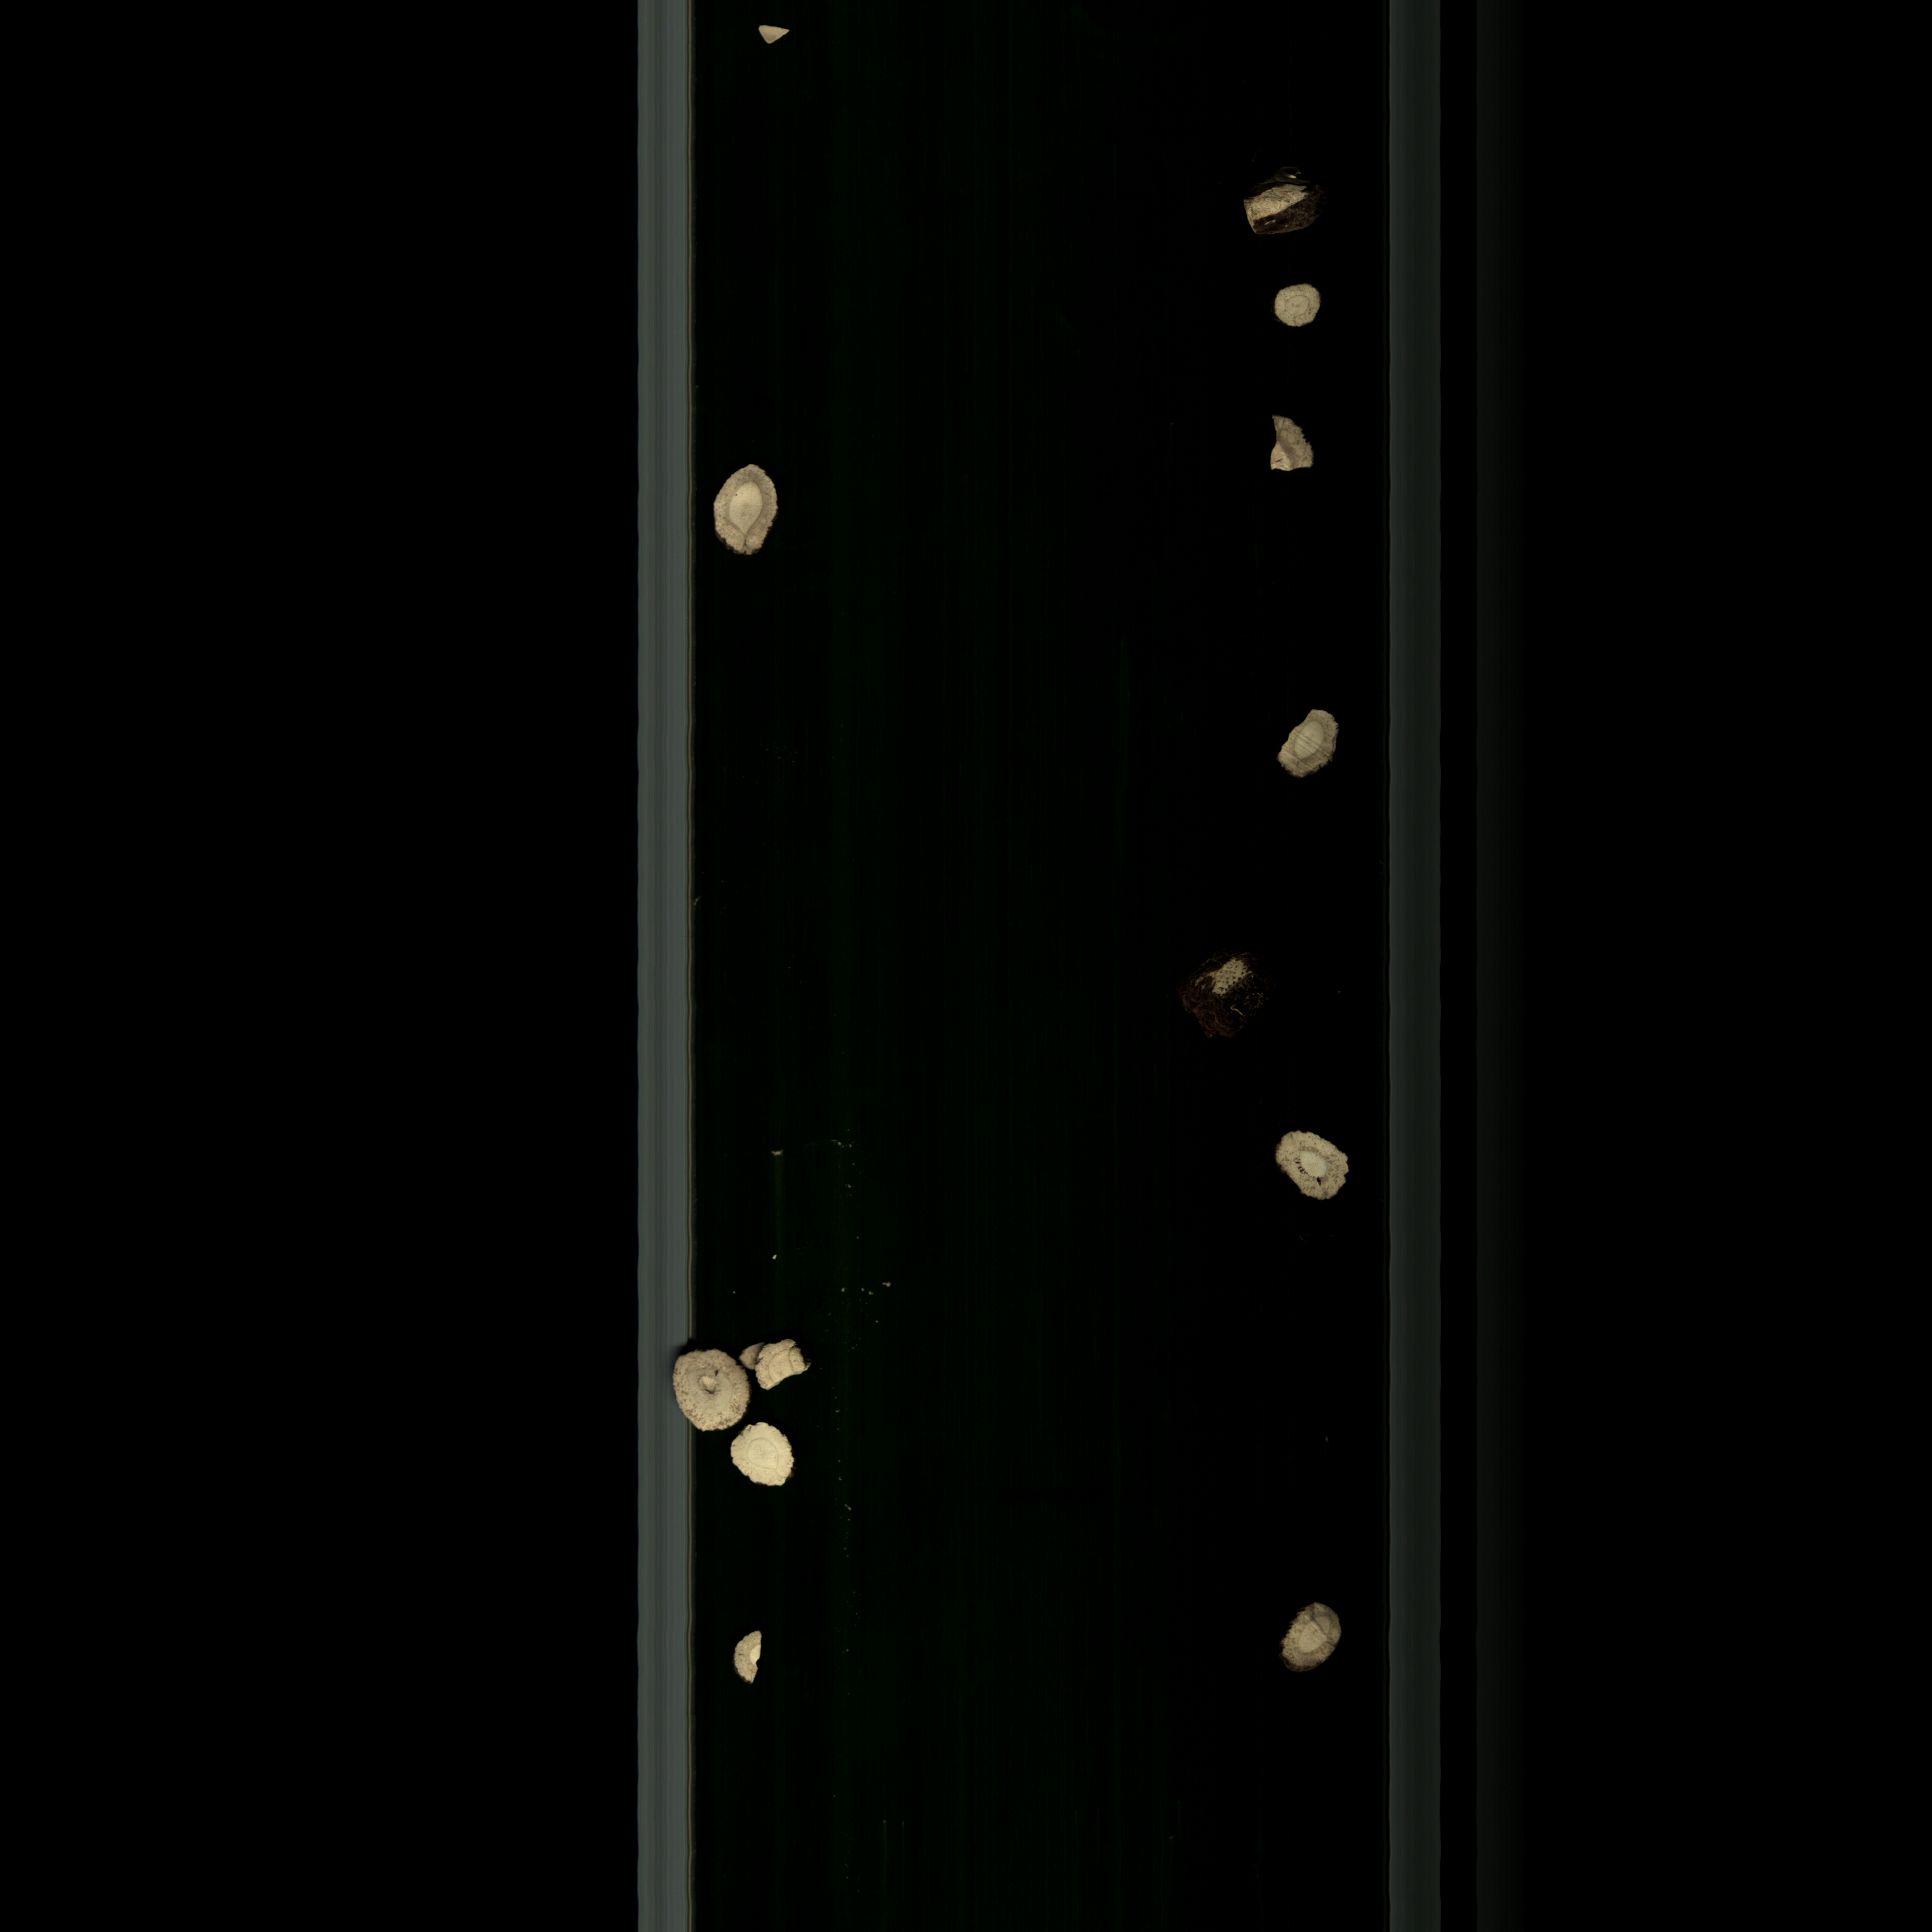bark: (1178, 957, 1292, 1042), (1231, 163, 1327, 246)
debris: (1263, 701, 1353, 778), (1253, 400, 1322, 481)
dreg: (752, 1329, 835, 1391), (736, 1612, 784, 1693), (754, 23, 801, 51)
hole: (1253, 1118, 1361, 1219), (669, 1341, 750, 1428)
moldy: (1274, 1589, 1353, 1679)
